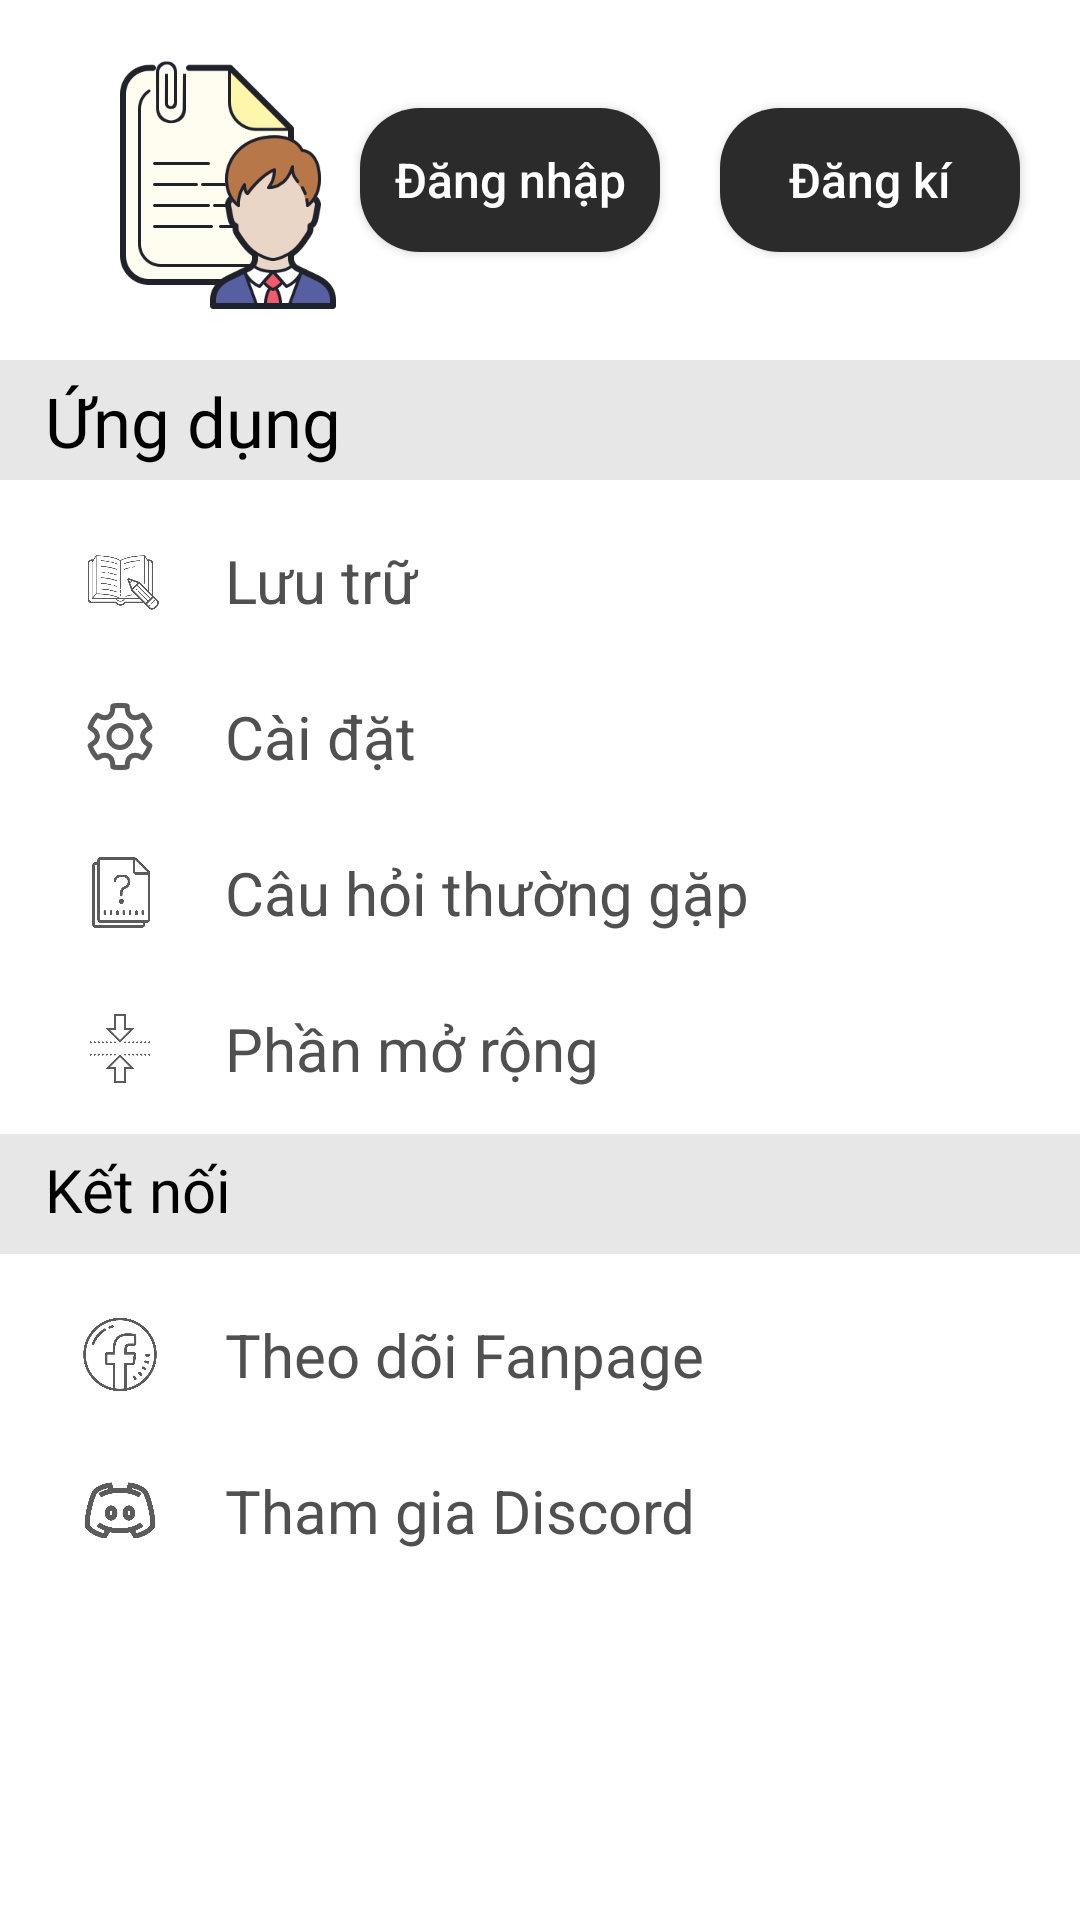

Screen size 1080px x 1920px. Icon name, then its center in pixels as (x=x, y=y):
profile cauhoi: (x=121, y=892)
profile luutru: (x=123, y=582)
profile setting: (x=120, y=736)
